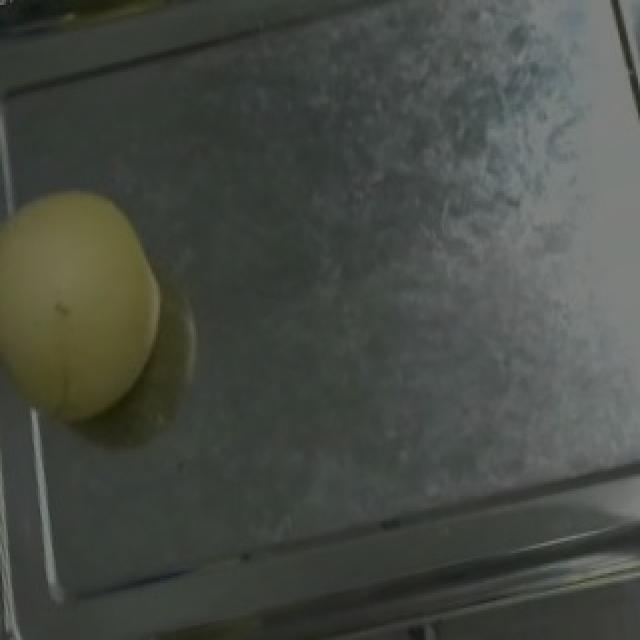Fruit: (0, 156, 188, 444)
